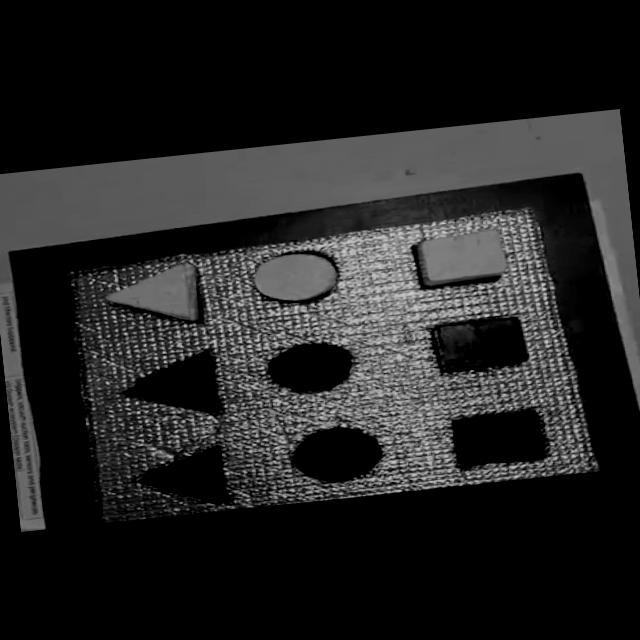mtcircle: (286, 421, 386, 487), (263, 338, 358, 398)
mtcube: (446, 404, 552, 472)
mttriangle: (118, 348, 225, 424), (130, 441, 232, 514)
rcube: (428, 312, 532, 374)
wb: (61, 202, 604, 521)
ycircle: (248, 247, 343, 308)
ycube: (408, 224, 513, 290)
ytriangle: (100, 262, 204, 332)
